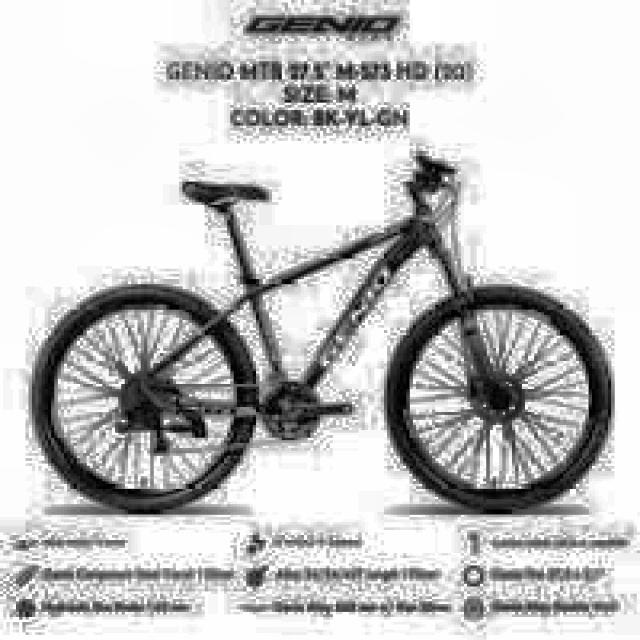bike: (19, 142, 625, 524)
